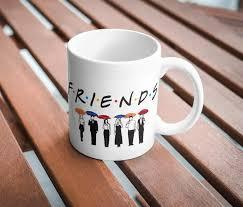Mug: (37, 16, 228, 167)
